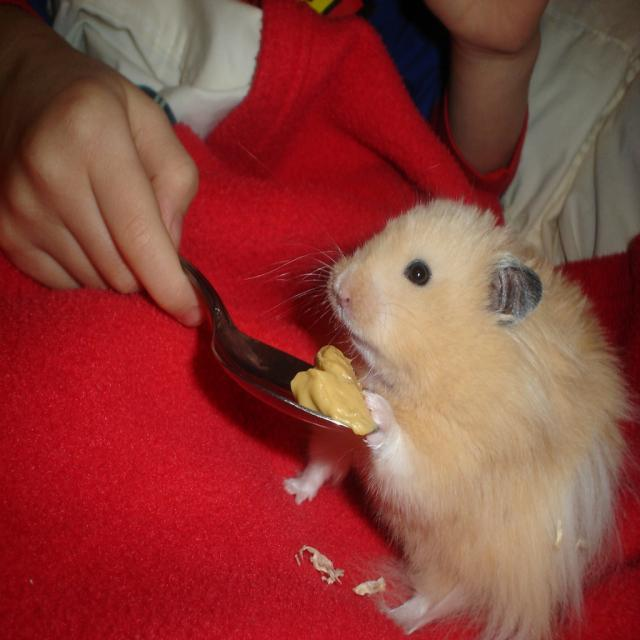rat: (287, 202, 627, 640)
